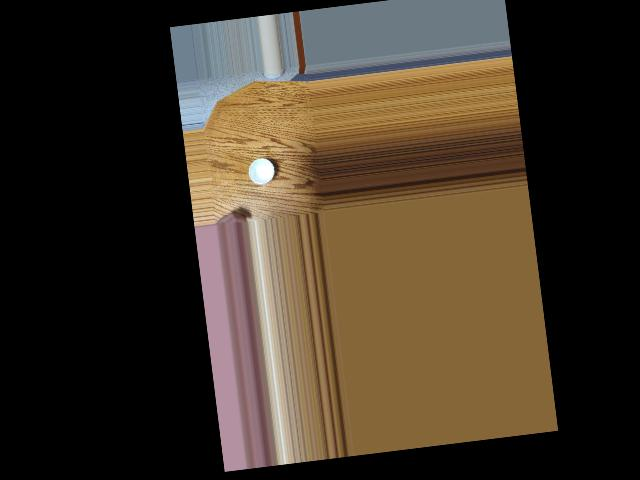cotage: (244, 156, 275, 189)
